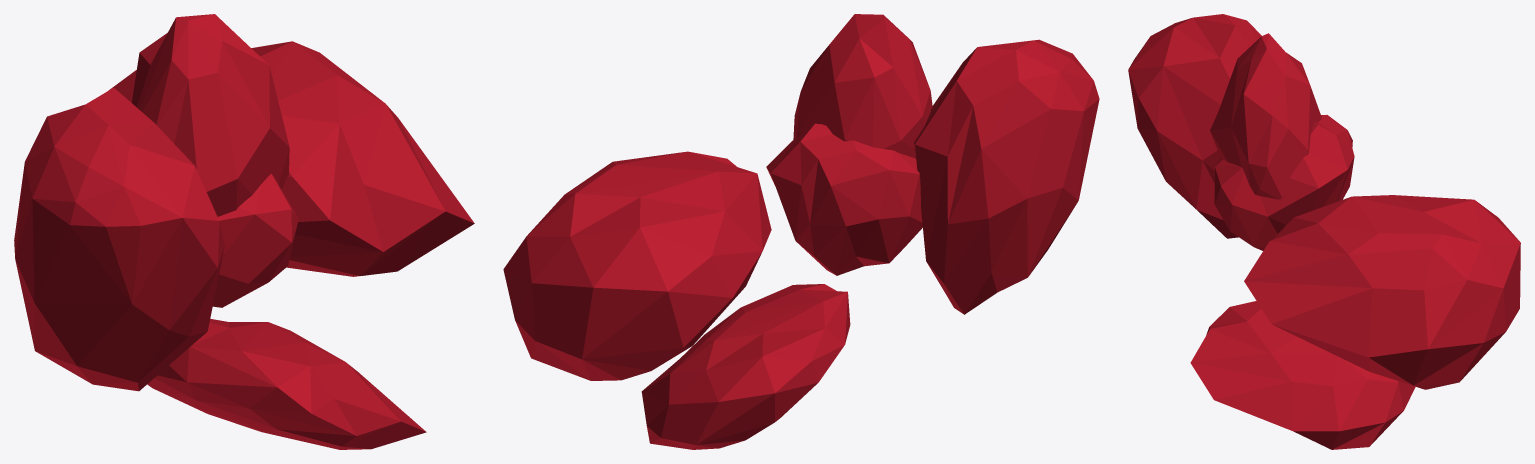
File: tree-dead-leaves-6-050.glb
The picture shows the model from 3 angles, left to right: view 1: azimuth 30°, elevation 25°; view 2: azimuth 150°, elevation 25°; view 3: azimuth 270°, elevation 25°; orthographic projection. The views are drawn at different scales.
Visible parts, largest first — view 1: TREE 6.007_516; view 2: TREE 6.007_516; view 3: TREE 6.007_516.
Part boxes in pixels (x1,y1,x2,y2): TREE 6.007_516: (14,14,474,449); TREE 6.007_516: (503,14,1099,449); TREE 6.007_516: (1128,14,1520,449).
Size of the model in its own units: 0.9337 by 0.8573 by 0.8774.
